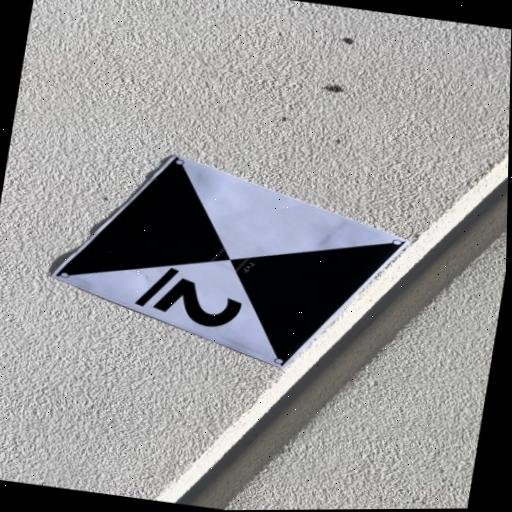target2: (48, 156, 410, 365)
